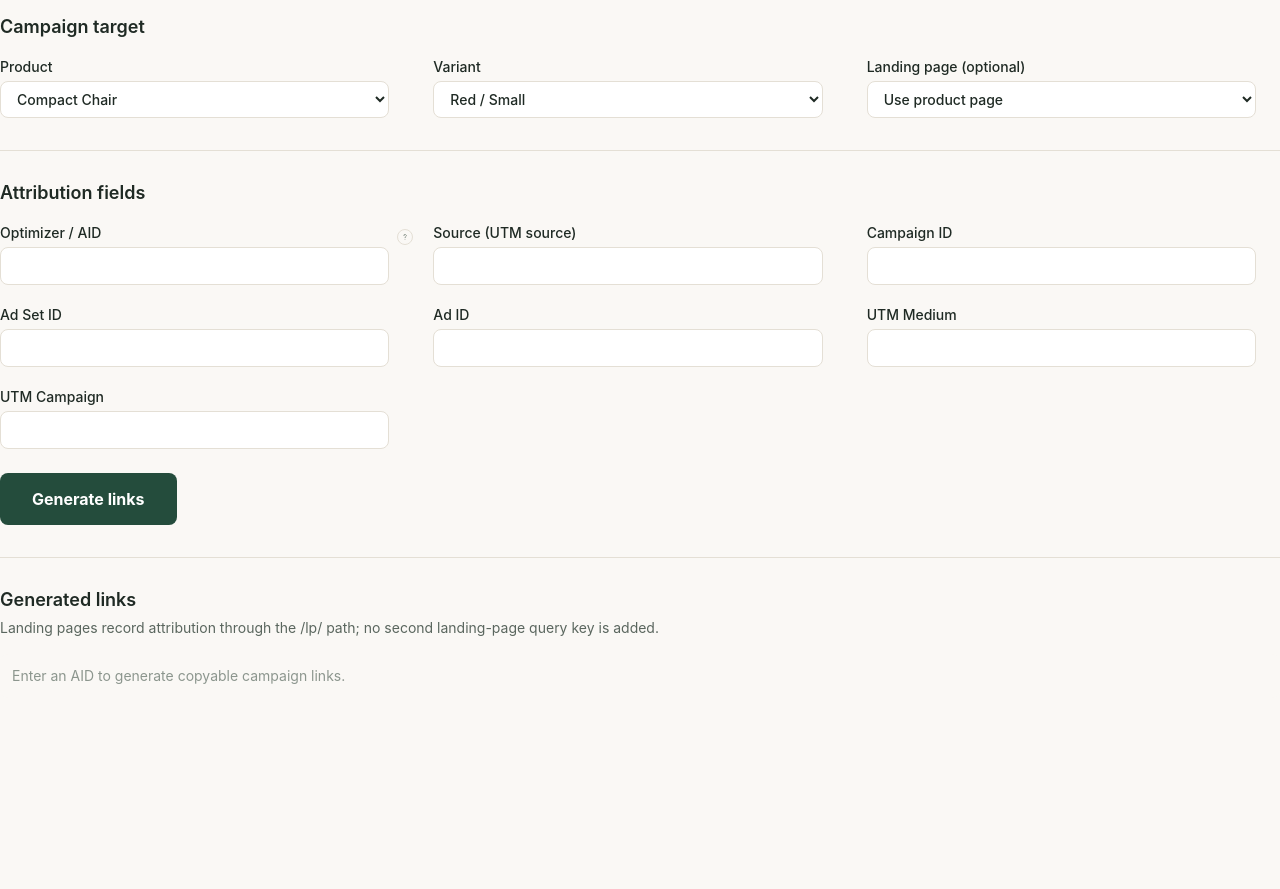
Test case: CampaignLinkBuilder › generates and copies product, variant and campaign links without alerts
Type "optimizer-a" into the field labelled "Optimizer / AID".
click(195, 266); type("optimizer-a")  # box [0,247,389,285]
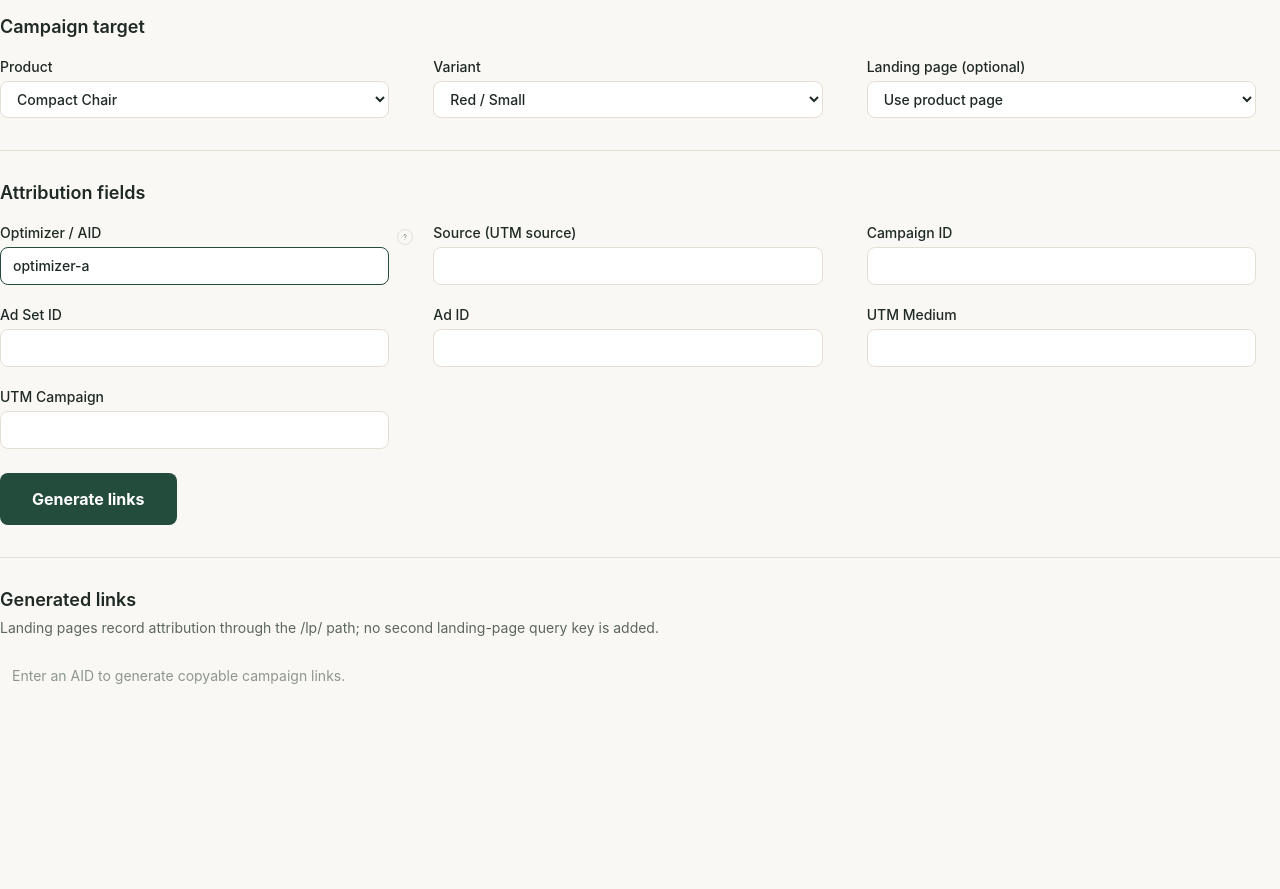
Type "facebook" into the field labelled "Source (UTM source)".
click(628, 266); type("facebook")  # box [433,247,823,285]
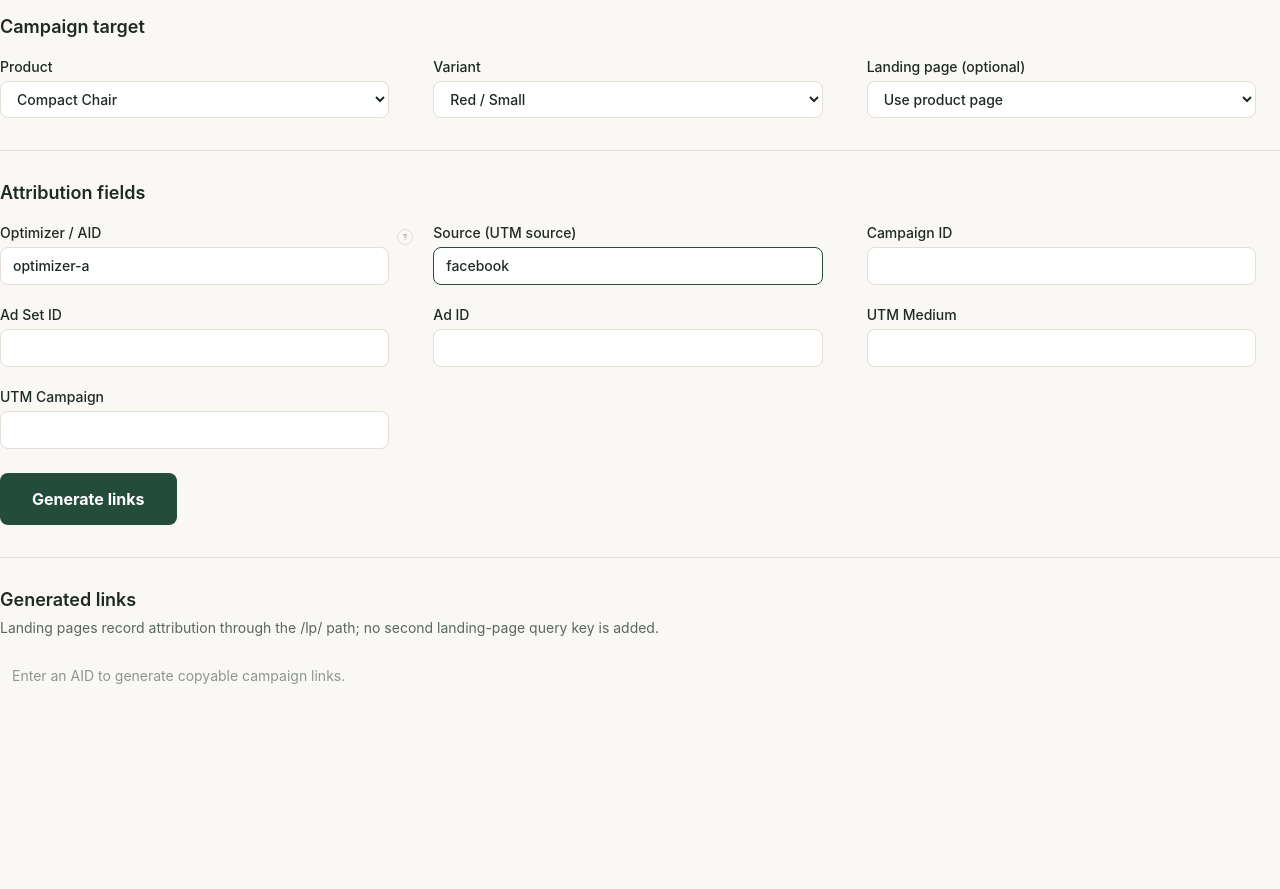
Type "campaign-1" into the field labelled "Campaign ID".
click(1061, 266); type("campaign-1")  # box [867,247,1256,285]
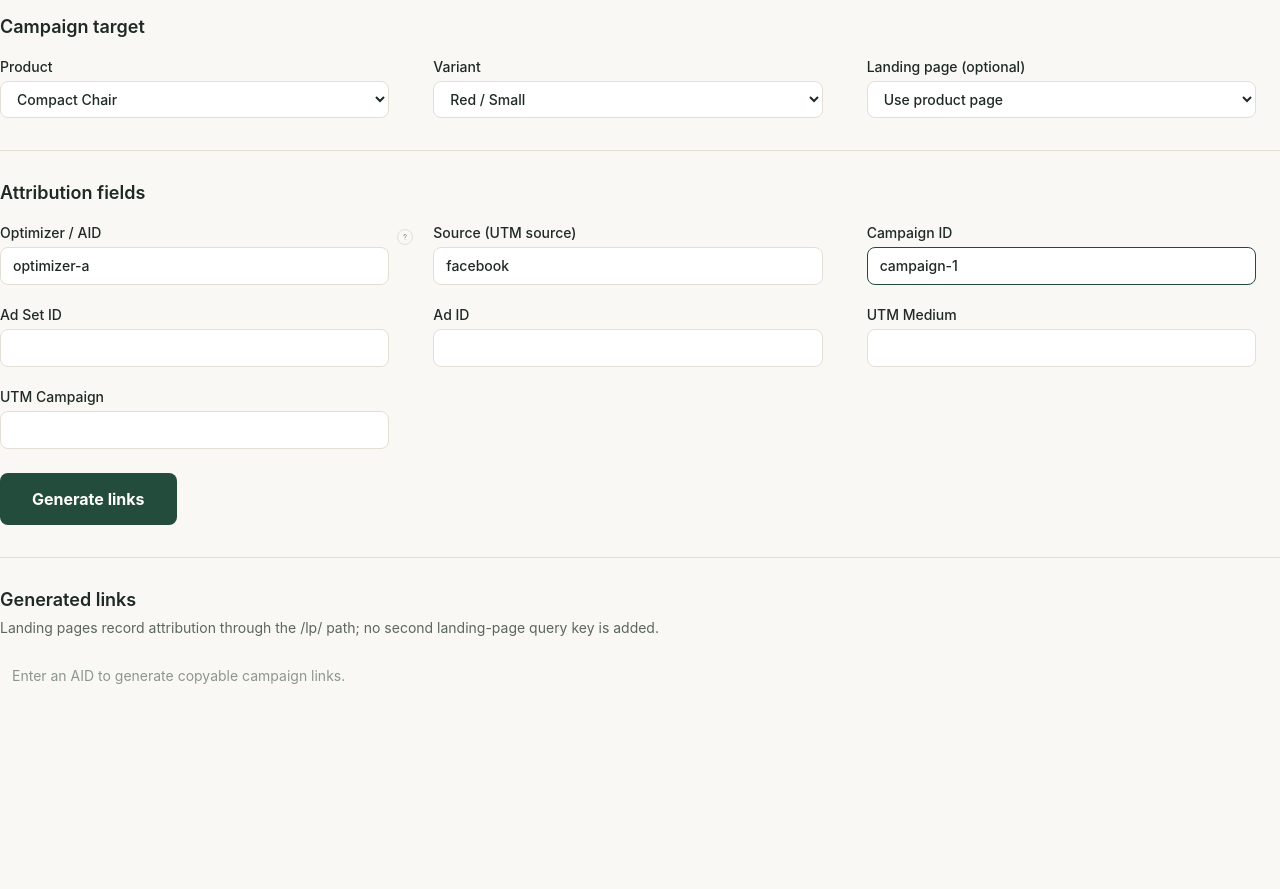
Type "ad-7" into the field labelled "Ad ID".
click(628, 348); type("ad-7")  # box [433,329,823,367]
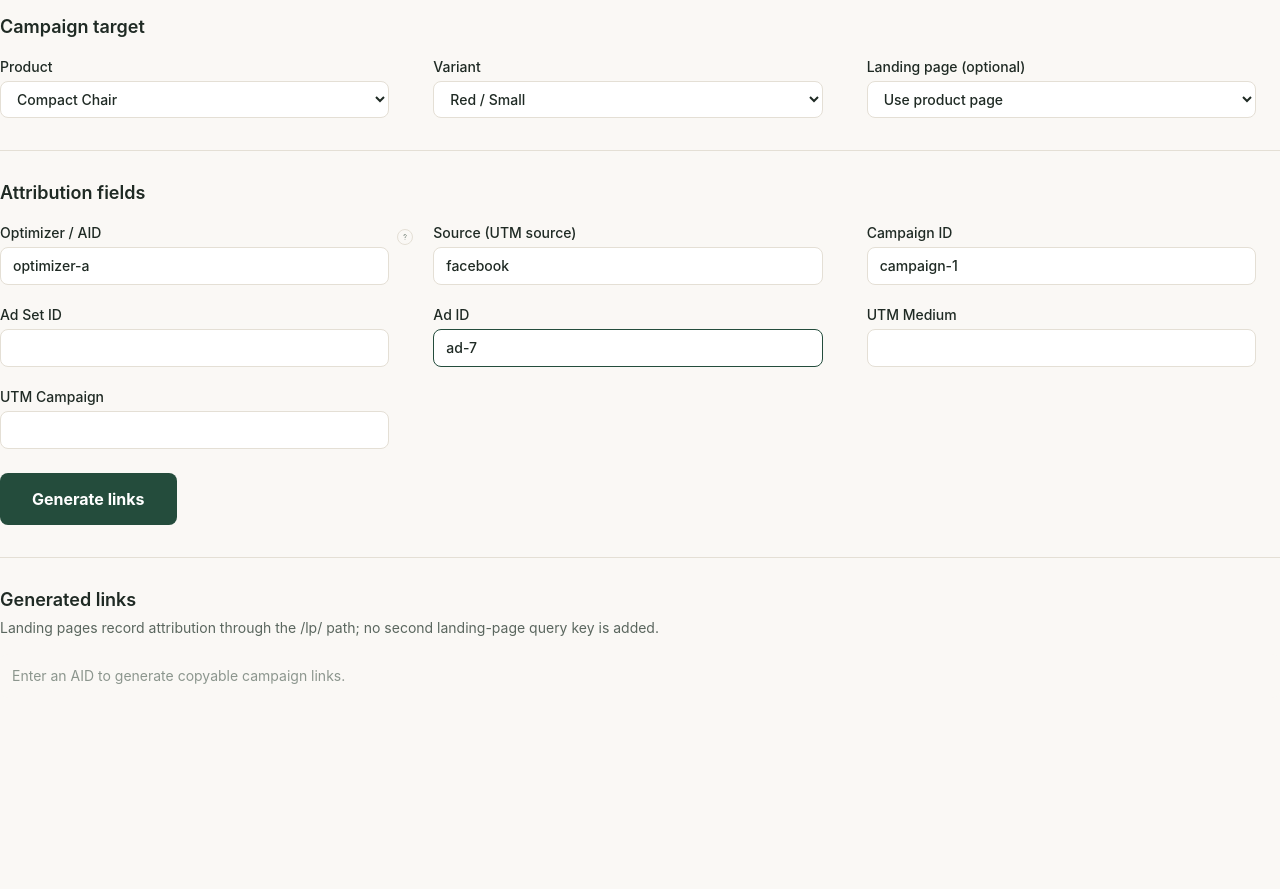
Click the button "Generate links".
click(88, 499)  # box [0,473,176,525]
(page scrolled)
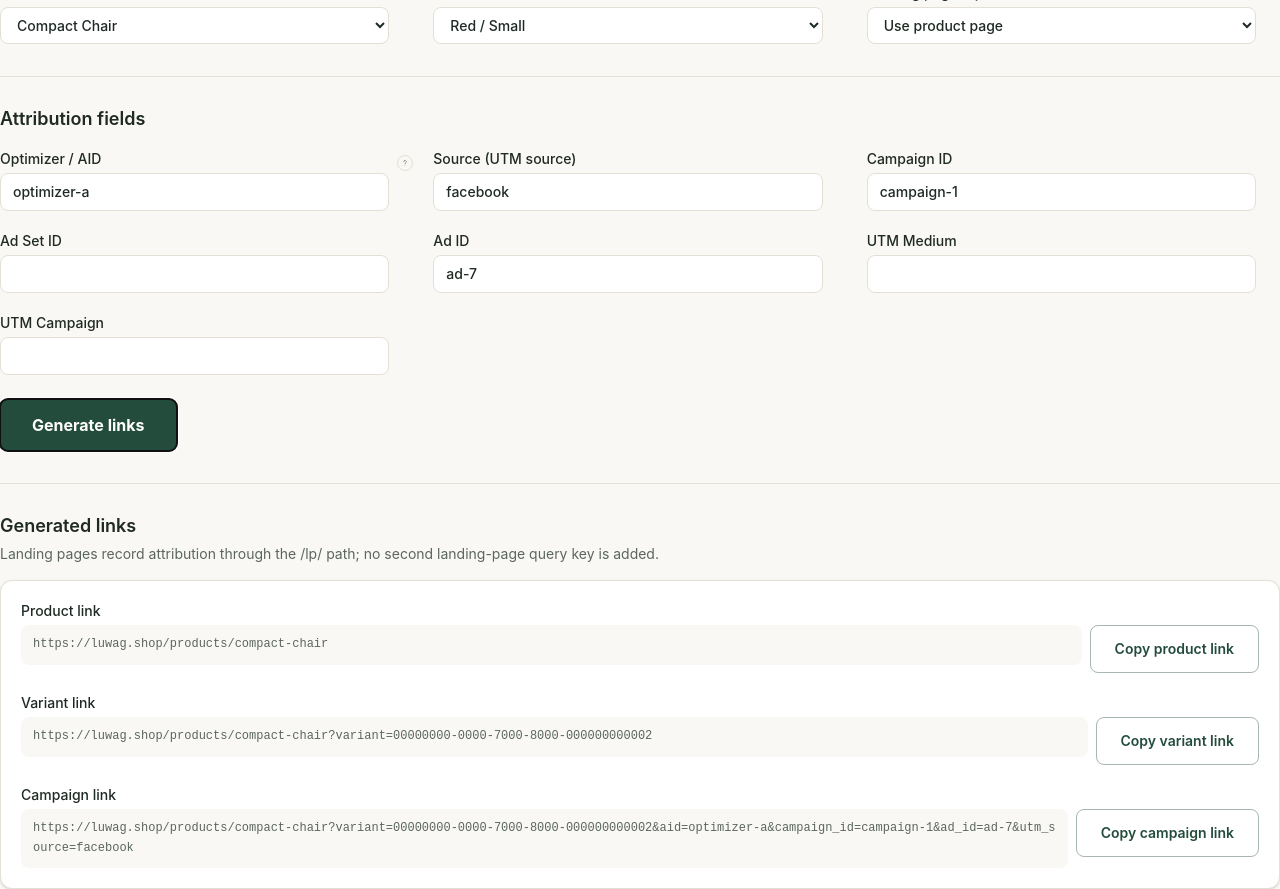
Expected: the text "https://luwag.shop/products/compact-chair" is shown, [21,625,1082,664]
Expected: the text "https://luwag.shop/products/compact-chair?variant=00000000-0000-7000-8000-000000000002" is shown, [33,729,652,743]
Expected: the text with test id "generated-campaign-url" shows "aid=optimizer-a", [33,821,1056,854]
Click the button "Copy campaign link".
click(1167, 833)  # box [1076,809,1259,857]
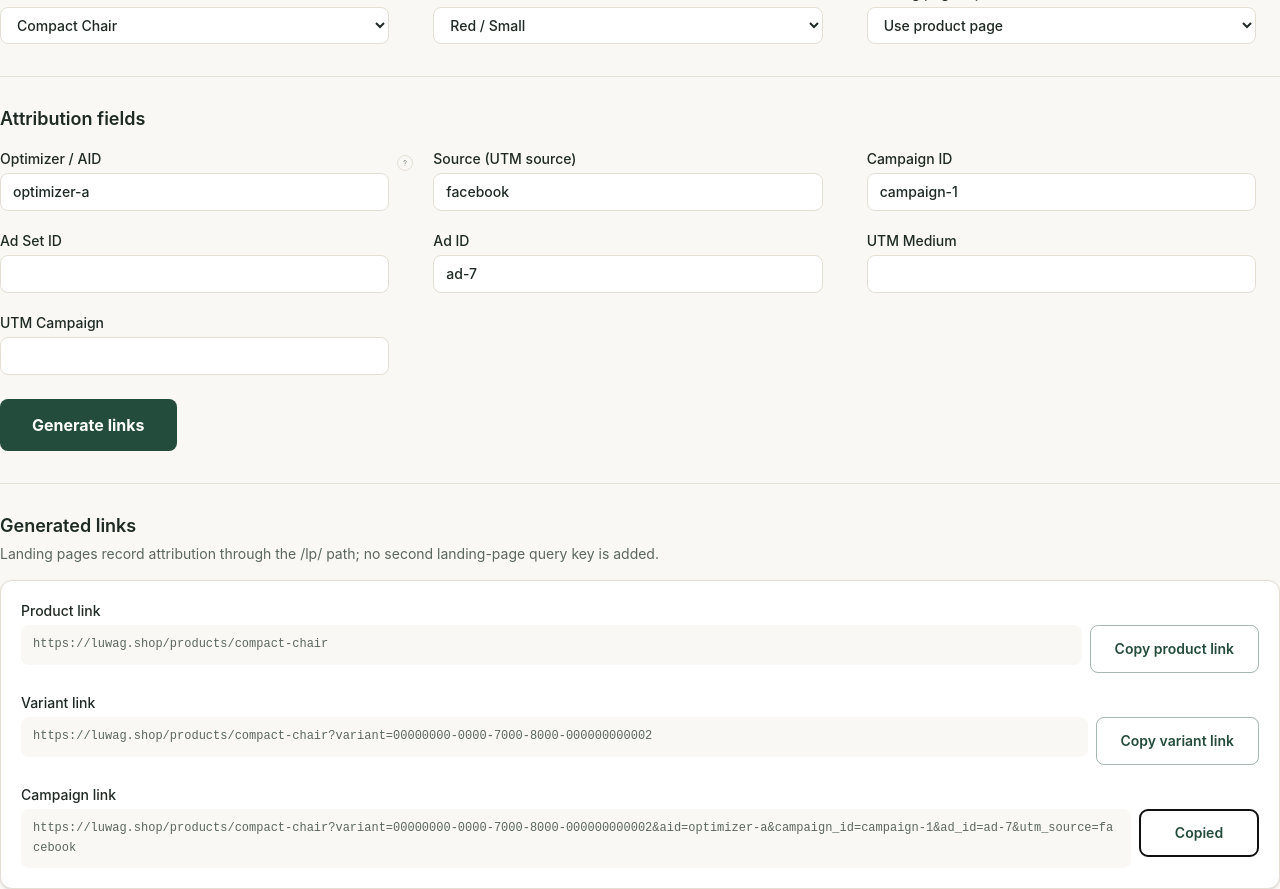
Expected: the button "Copied" is shown, [1139,809,1259,857]
